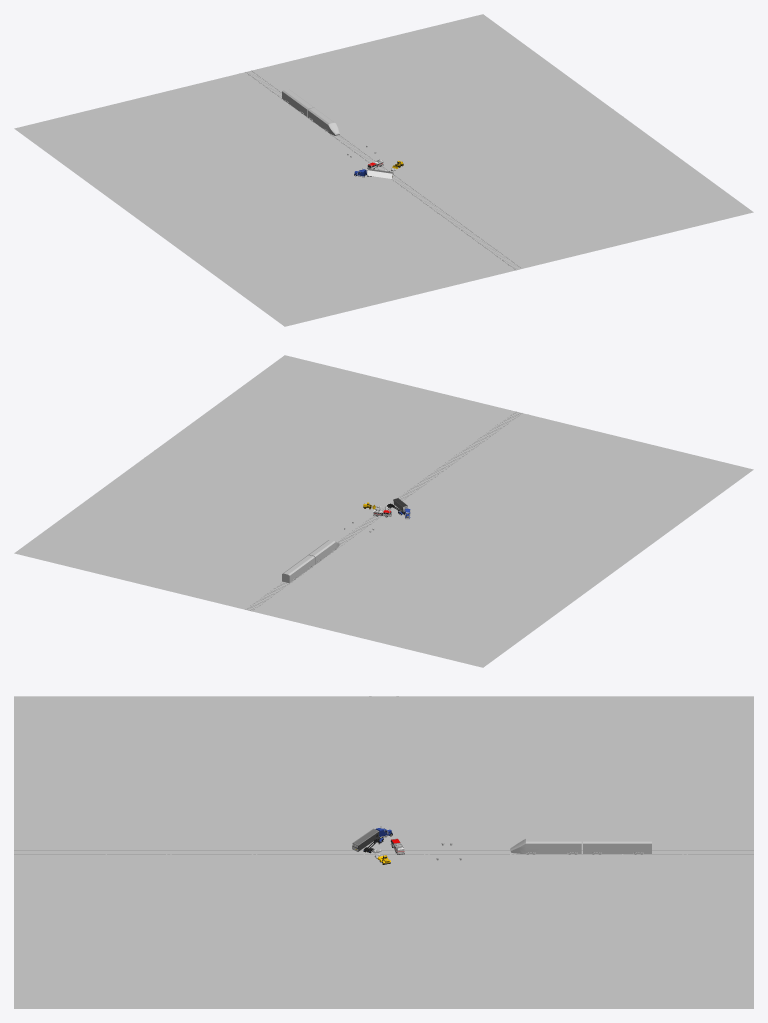
Rendered from changjing4_2.fbx.
3 views of the same model, one above another, from view 1: azimuth 30°, elevation 25°; view 2: azimuth 150°, elevation 25°; view 3: azimuth 270°, elevation 25° (orthographic). The views are drawn at different scales.
Parts seen in each view (by area): view 1: changjing4_2, huochedao, huoche; view 2: changjing4_2, huochedao, huoche; view 3: changjing4_2, huoche, huochedao, DakaChe08.
Part boxes in pixels (left/top/right/bottom): changjing4_2: left=14, top=14, right=753, bottom=326; huochedao: left=245, top=70, right=522, bottom=270; huoche: left=282, top=89, right=339, bottom=135; changjing4_2: left=14, top=355, right=753, bottom=667; huochedao: left=245, top=411, right=522, bottom=611; huoche: left=282, top=540, right=339, bottom=583; changjing4_2: left=14, top=696, right=753, bottom=1008; huoche: left=510, top=838, right=651, bottom=854; huochedao: left=14, top=850, right=753, bottom=854; DakaChe08: left=352, top=826, right=392, bottom=853.
Bounding box in the file's own units: 34371 × 696 × 34371.
